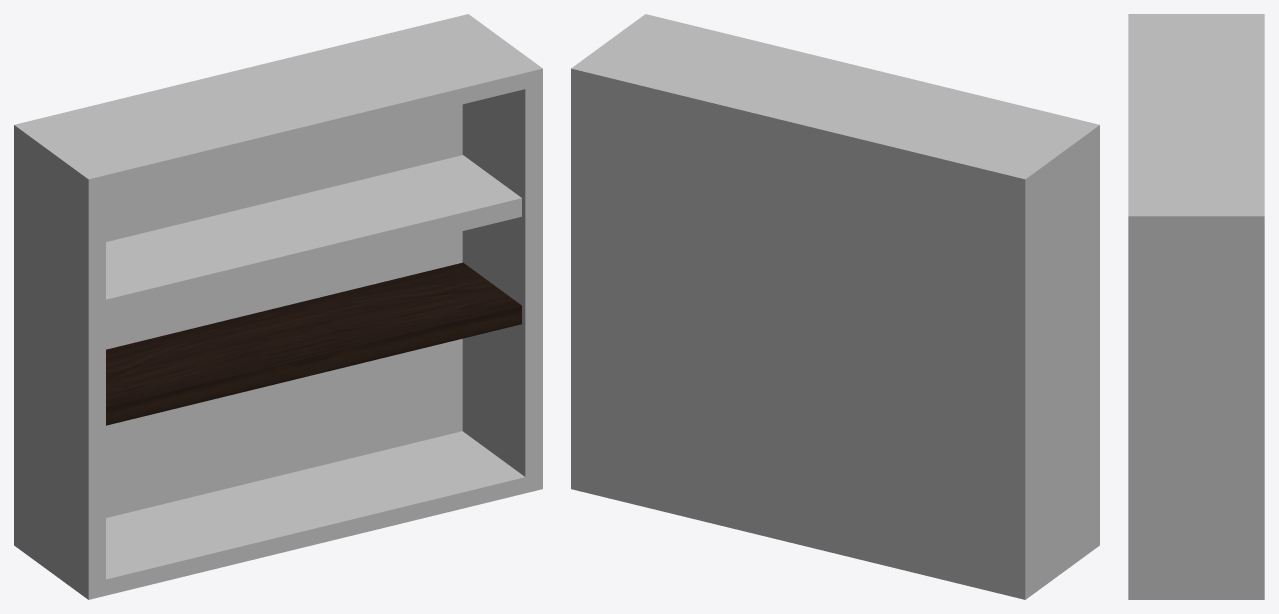
Rendered from ShabbyShelf.fbx.
3 renders of one model, left to right at view 1: azimuth 30°, elevation 25°; view 2: azimuth 150°, elevation 25°; view 3: azimuth 270°, elevation 25°, orthographic. The views are drawn at different scales.
Visible parts, largest first — view 1: BasicShelf3, ShesShelfShelf5, ShesShelfShelf4; view 2: BasicShelf3; view 3: BasicShelf3.
Part boxes in pixels (x1,y1,x2,y2): BasicShelf3: (14, 14, 542, 599); ShesShelfShelf5: (106, 262, 521, 425); ShesShelfShelf4: (106, 155, 521, 317); BasicShelf3: (571, 14, 1099, 599); BasicShelf3: (1128, 14, 1264, 599).
Size of the model in its own units: 20.44 by 18.07 by 5.81.
